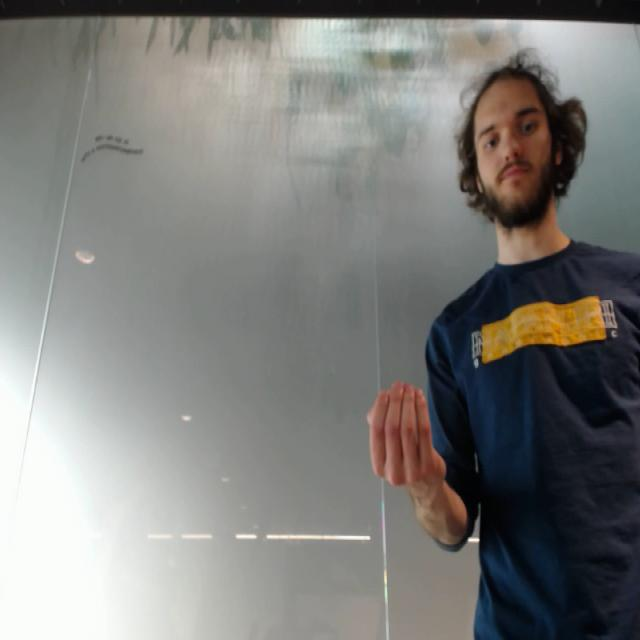forward: (361, 382, 451, 502)
